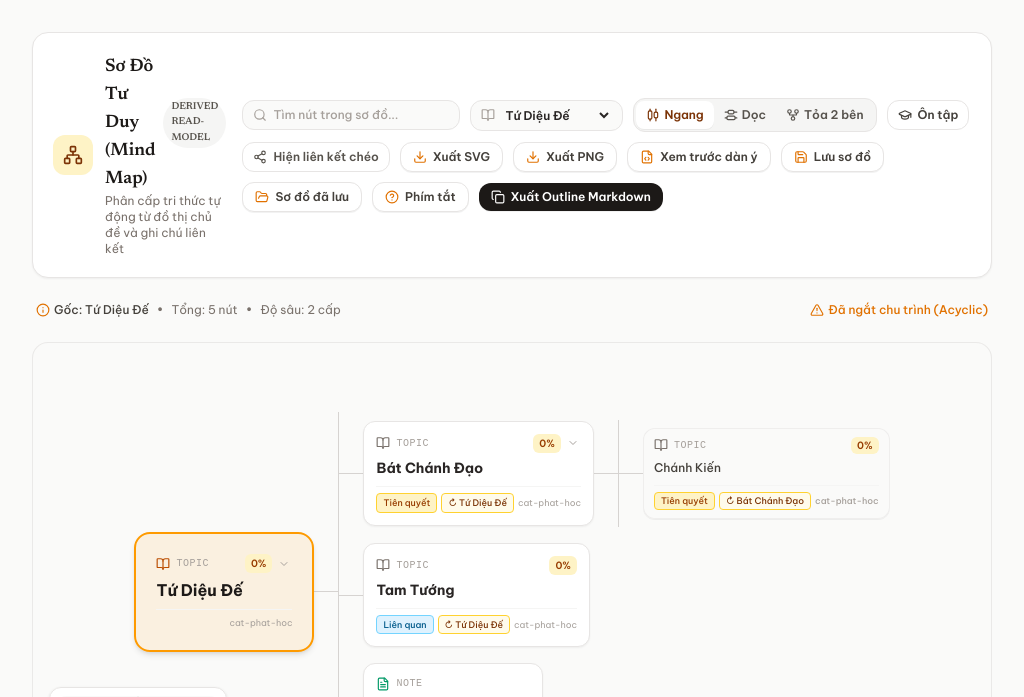
Scenario: Mind Map Feature S1: In-Canvas Search & Node Highlight Filter › 2. MindMapView In-Canvas Search Toolbar & Highlight Lifecycle › Scenario 2.4: pressing Escape key in search input clears the active search
The image size is (1024, 697).
Step 1. Type "Bát Chánh" into the field with placeholder "Tìm nút trong sơ đồ..." → (361, 115), box [273,107,449,123]
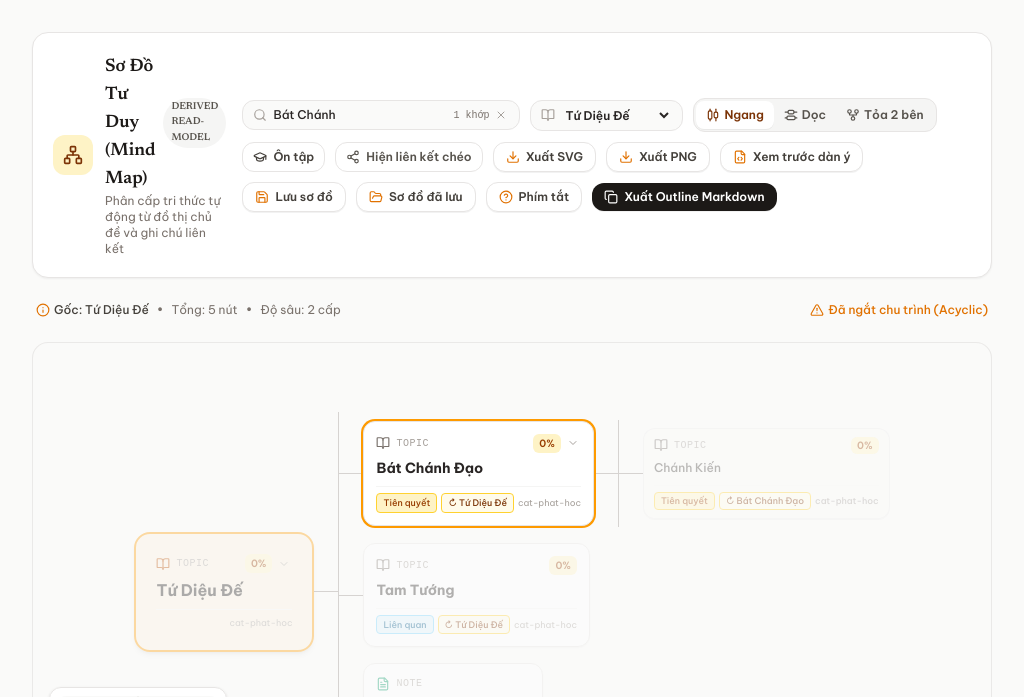
Now the text "1 khớp" is shown, box [453,108,489,122]
Step 2. Press Escape in the field with placeholder "Tìm nút trong sơ đồ...", box [273,107,449,123]
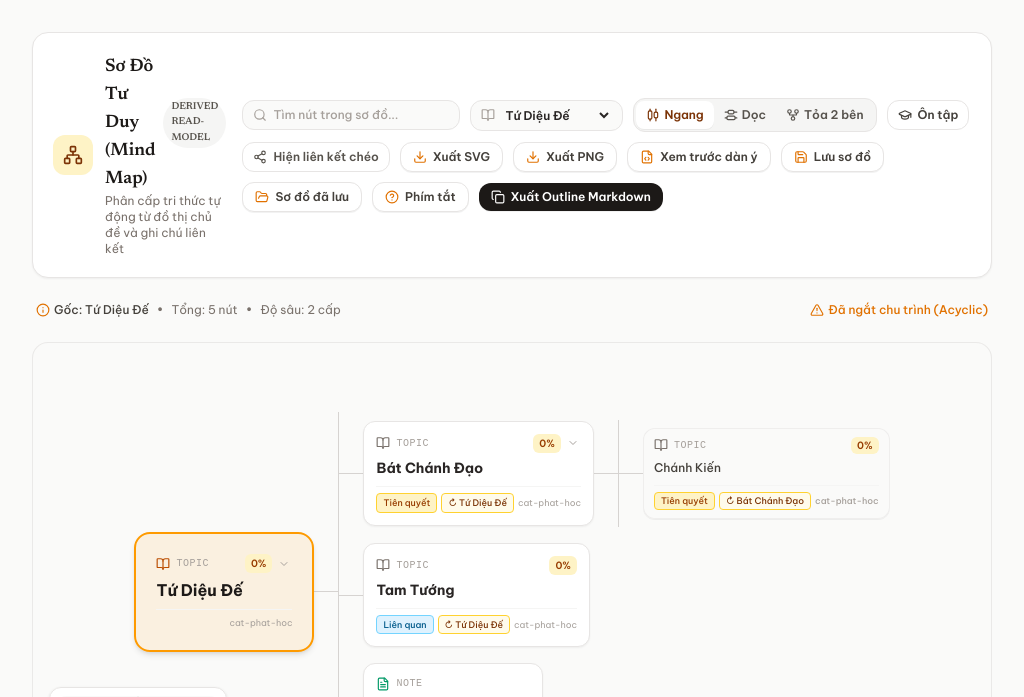
Now the field with placeholder "Tìm nút trong sơ đồ..." is empty, box [273,107,449,123]
Now the text "khớp" is gone
